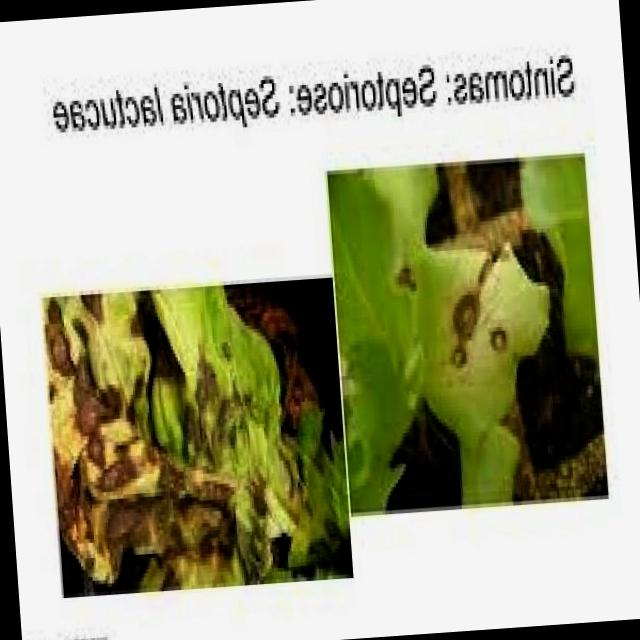Septoria_Blight: (51, 312, 294, 577), (409, 224, 547, 434)
